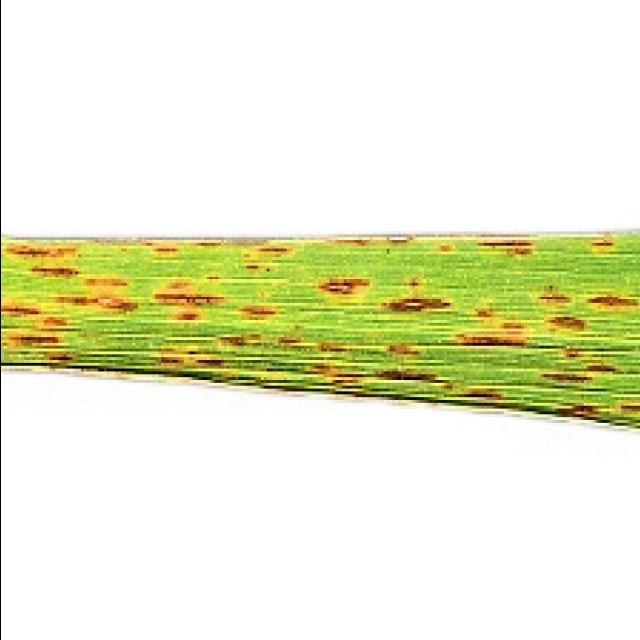Unhealthy: (47, 272, 141, 316), (148, 275, 226, 325), (452, 306, 529, 349), (376, 274, 455, 314), (371, 368, 453, 393), (312, 273, 373, 306), (539, 361, 618, 386), (156, 343, 225, 369), (275, 335, 357, 355), (308, 362, 368, 387), (3, 244, 80, 261), (476, 237, 534, 259), (583, 292, 640, 312), (24, 264, 82, 281), (544, 314, 587, 335), (381, 339, 424, 359), (137, 240, 183, 258), (5, 332, 61, 346), (555, 402, 598, 418), (0, 303, 45, 318), (216, 332, 261, 347), (536, 290, 575, 307), (235, 305, 278, 320), (463, 388, 504, 402), (614, 396, 640, 418), (40, 315, 69, 329), (254, 246, 291, 256), (333, 238, 370, 248), (589, 239, 617, 251), (434, 241, 457, 254), (562, 346, 581, 361), (385, 237, 413, 247), (42, 355, 74, 363), (202, 273, 221, 285), (193, 240, 220, 248), (241, 263, 260, 272)
